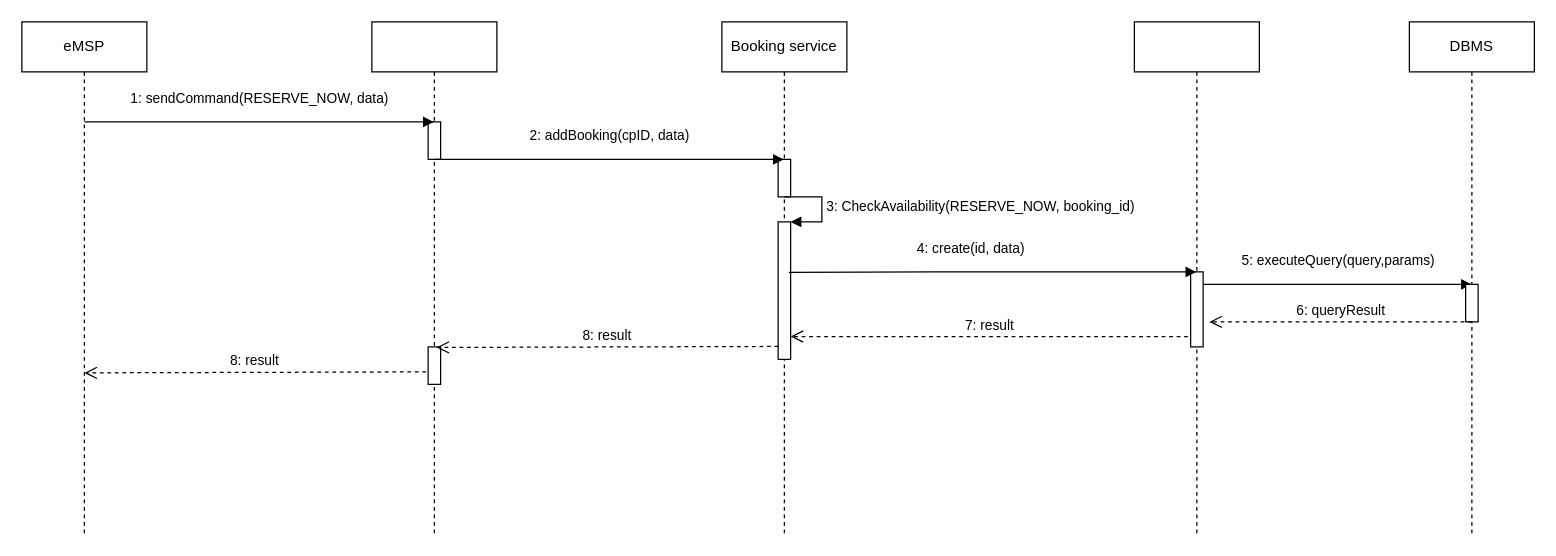
Image size: 1556x556. Some labels were removed from this diagram. The shapes that lost their labels are listed below. From the top down, each one's box as (x1, y1, x2, y2) in pixels, then its label:
(371, 21, 497, 534): OCPI Service
(1133, 21, 1259, 534): Booking Model
